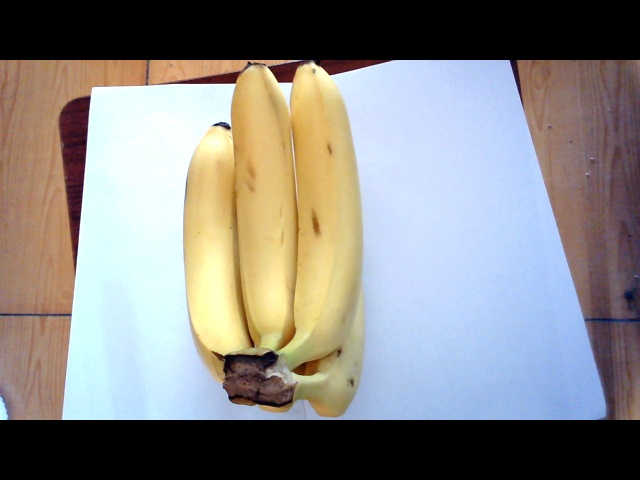banana: (175, 61, 397, 408)
